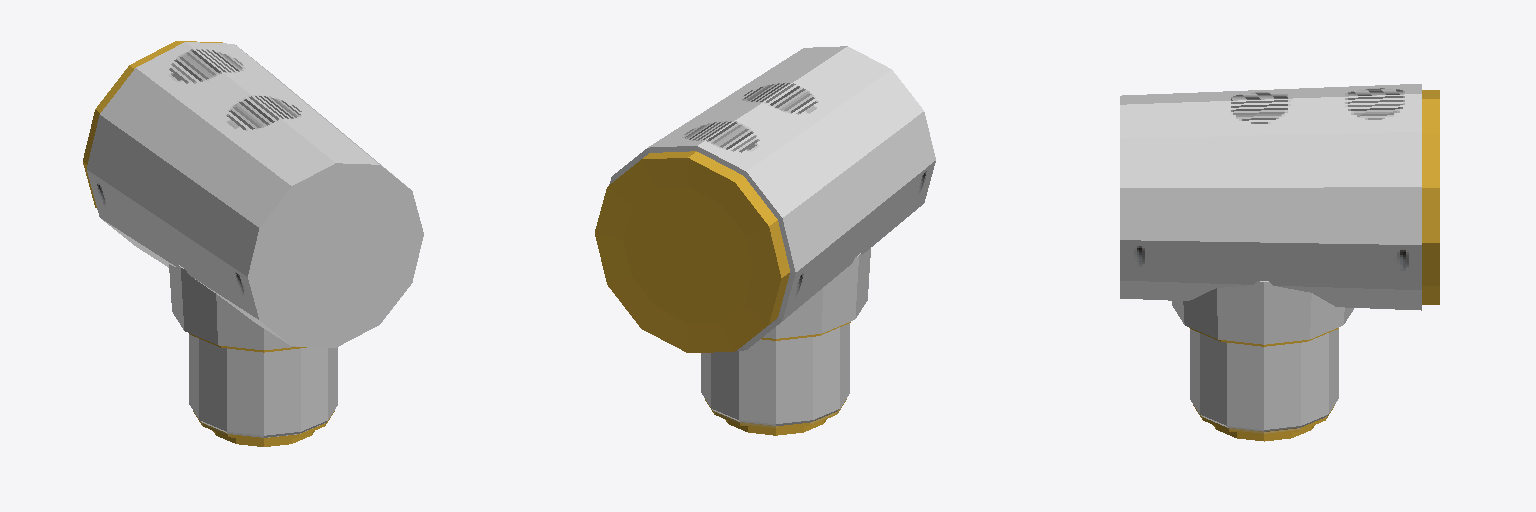
The picture shows the model from 3 angles: view 1: azimuth 30°, elevation 25°; view 2: azimuth 150°, elevation 25°; view 3: azimuth 270°, elevation 25°; orthographic projection.
Visible parts, largest first — view 1: link_torso whole_robot; view 2: link_torso whole_robot; view 3: link_torso whole_robot.
Boxes of the visible parts, <box> form: link_torso whole_robot: <box>83,41,423,446</box>; link_torso whole_robot: <box>595,46,935,435</box>; link_torso whole_robot: <box>1120,84,1439,441</box>.
Bounding box in the file's own units: 0.1566 × 0.2459 × 0.2198.
1 materials, 1 textured.